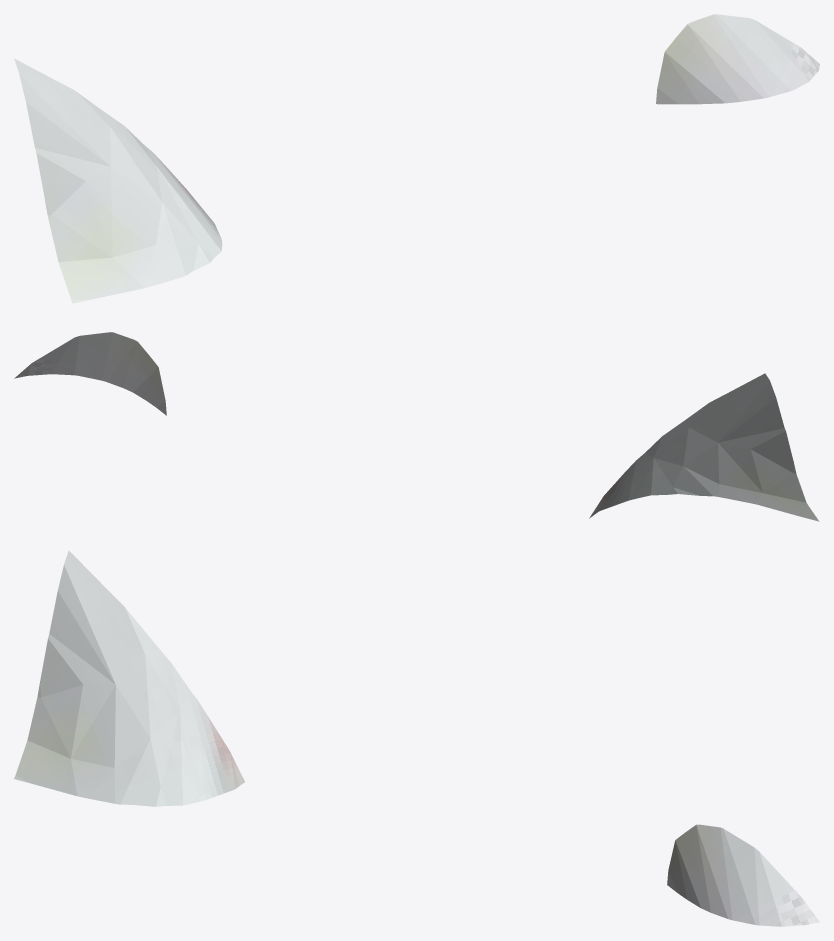
3 views of the same model, one above another, from view 1: azimuth 30°, elevation 25°; view 2: azimuth 150°, elevation 25°; view 3: azimuth 330°, elevation 25° (orthographic). The views are drawn at different scales.
Bounding box in the file's own units: 61.22 × 14.7 × 8.
1 material, 1 textured.
